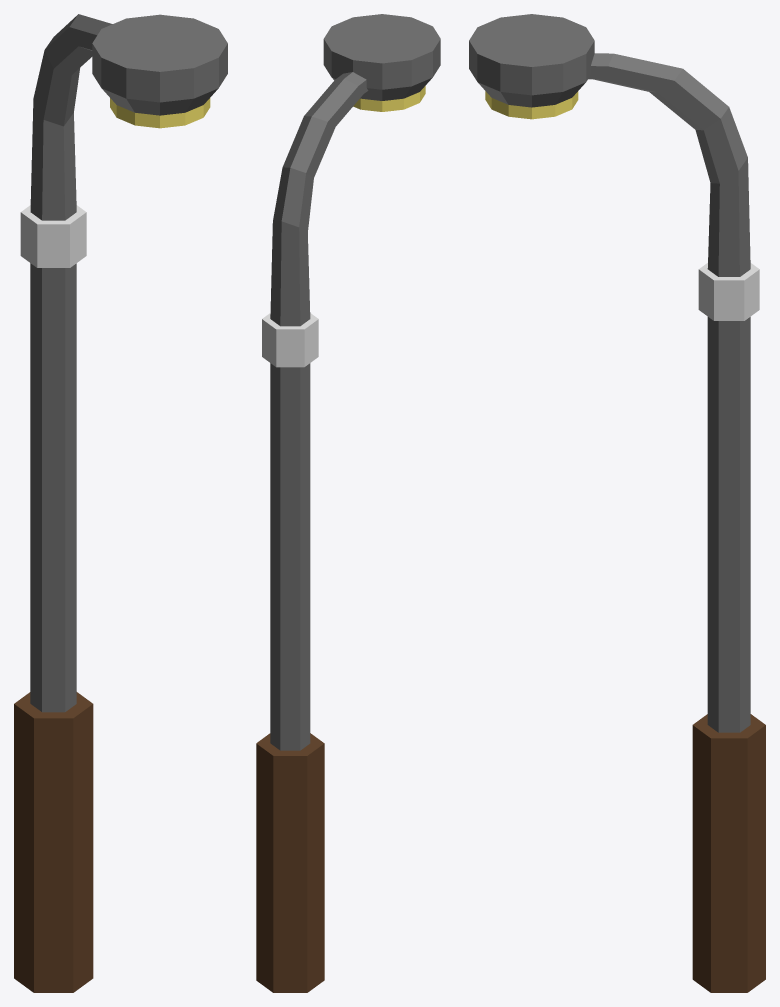
The model's file is PR_Lamp1_01.fbx.
The picture shows the model from 3 angles, left to right: view 1: azimuth 30°, elevation 25°; view 2: azimuth 150°, elevation 25°; view 3: azimuth 270°, elevation 25°; orthographic projection. The views are drawn at different scales.
Visible parts, largest first — view 1: PR_Lamp1_01, Cylinder.003; view 2: PR_Lamp1_01, Cylinder.003; view 3: PR_Lamp1_01, Cylinder.003.
Boxes of the visible parts, x1,y1,x2,y2 form: PR_Lamp1_01: (14,14,112,992); Cylinder.003: (92,14,227,128); PR_Lamp1_01: (256,72,368,992); Cylinder.003: (323,14,440,111); PR_Lamp1_01: (588,53,765,992); Cylinder.003: (469,14,594,119).
Size of the model in its own units: 60.93 by 502 by 144.
